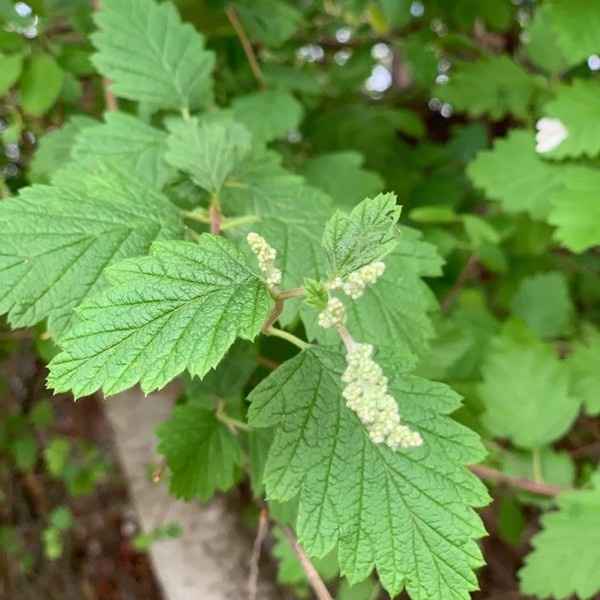obstacle: (14, 12, 494, 596)
